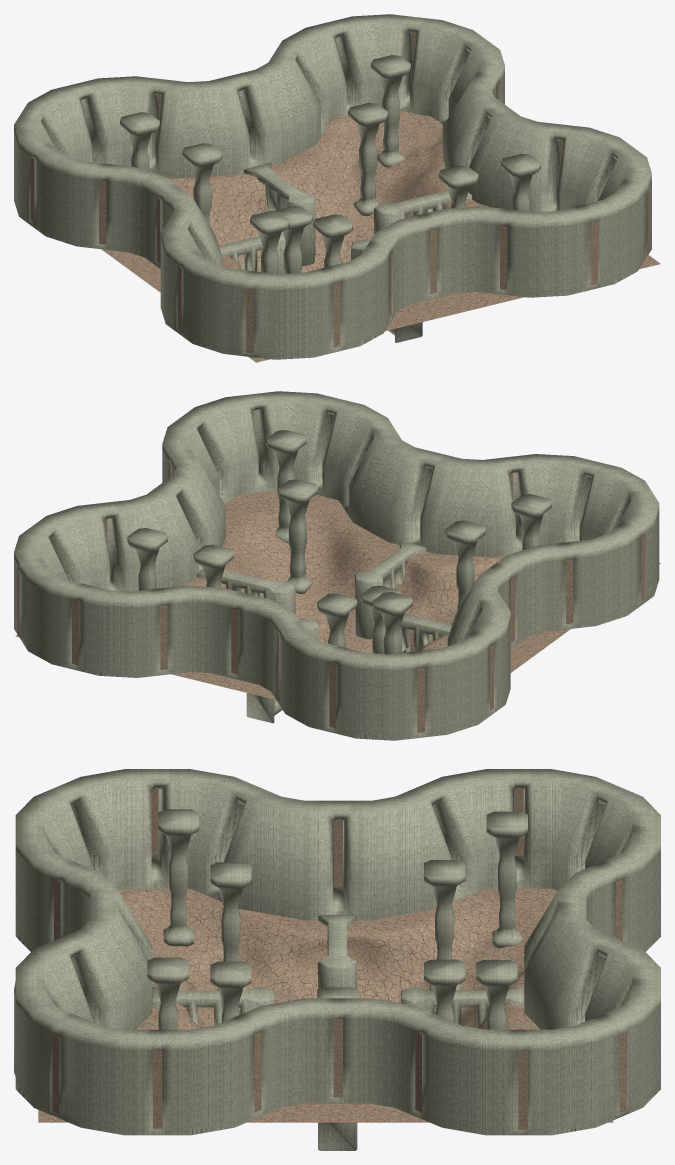
File: Barren_02.fbx
The picture shows the model from 3 angles, top to bottom: view 1: azimuth 30°, elevation 25°; view 2: azimuth 150°, elevation 25°; view 3: azimuth 270°, elevation 25°; orthographic projection. The views are drawn at different scales.
Parts seen in each view (by area): view 1: Barren_02 ARENA, Barren_02 Glass; view 2: Barren_02 ARENA, Barren_02 Glass; view 3: Barren_02 ARENA, Barren_02 Glass.
Boxes of the visible parts, x1,y1,x2,y2 form: Barren_02 ARENA: [14, 14, 660, 362]; Barren_02 Glass: [30, 33, 649, 353]; Barren_02 ARENA: [14, 391, 660, 740]; Barren_02 Glass: [17, 410, 645, 732]; Barren_02 ARENA: [14, 769, 660, 1150]; Barren_02 Glass: [52, 789, 626, 1129].
Bounding box in the file's own units: 90.23 × 34.2 × 89.99.
